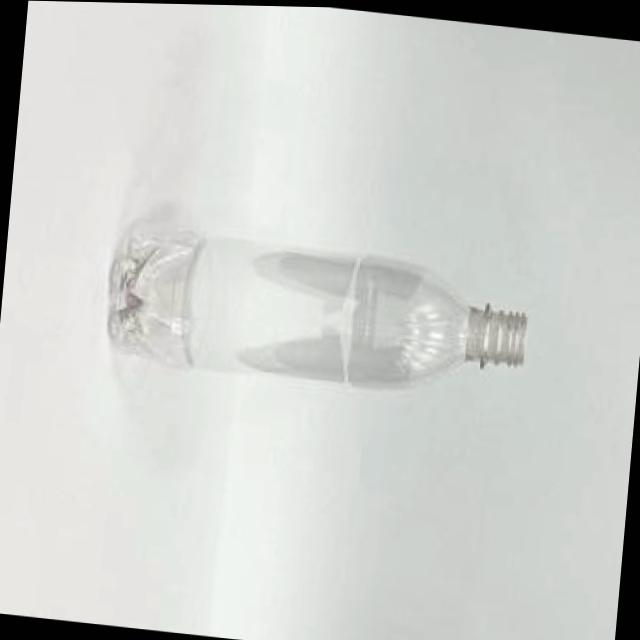anorganik: (98, 215, 550, 421)
